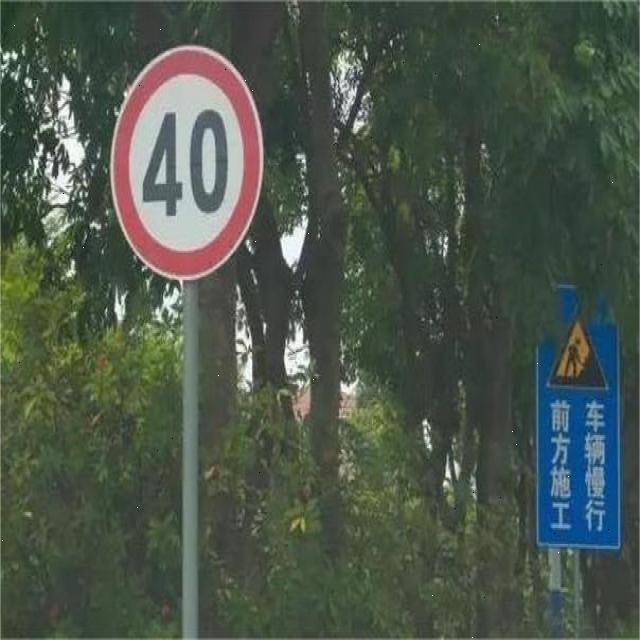speed limit 40: (112, 45, 266, 283)
